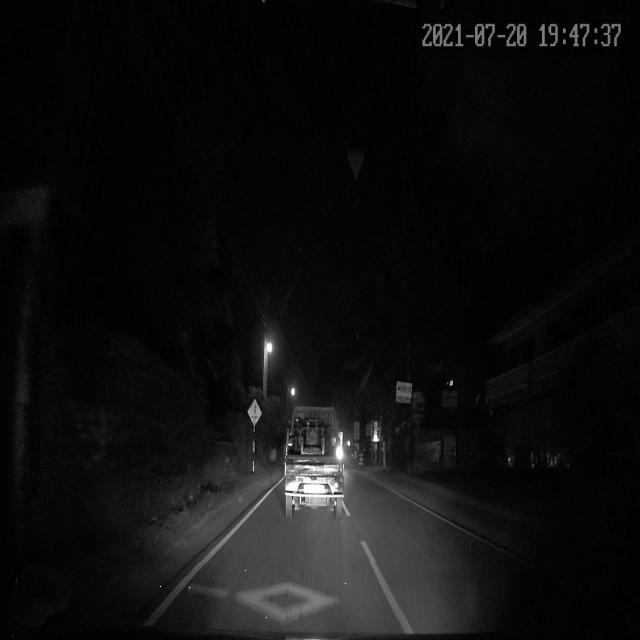diamond: (150, 562, 401, 621)
